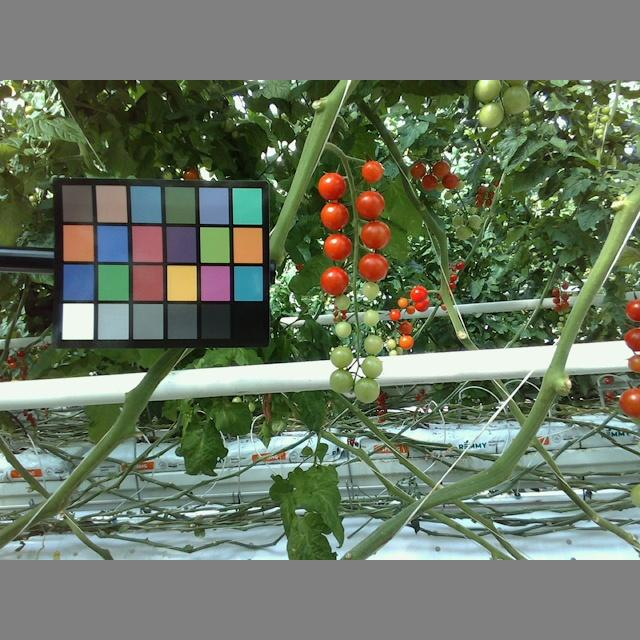green: (502, 85, 532, 114), (478, 102, 504, 130), (328, 368, 355, 393), (354, 378, 380, 403), (473, 81, 503, 102), (358, 354, 382, 378), (330, 345, 353, 369), (363, 331, 385, 354), (333, 319, 352, 341), (363, 280, 379, 299), (335, 292, 350, 312), (363, 307, 378, 326), (630, 483, 640, 510)
pink: (619, 388, 640, 416), (628, 353, 640, 371)
red: (317, 170, 347, 201), (318, 199, 348, 230), (322, 230, 352, 261), (318, 265, 349, 295), (359, 251, 389, 281), (356, 190, 385, 219), (360, 221, 390, 248), (361, 159, 384, 184), (627, 296, 640, 325), (625, 327, 640, 349)
